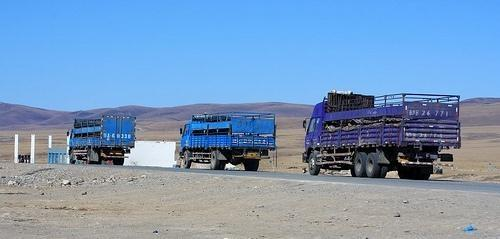truck: (303, 89, 461, 181), (178, 113, 277, 172), (66, 114, 136, 165)
